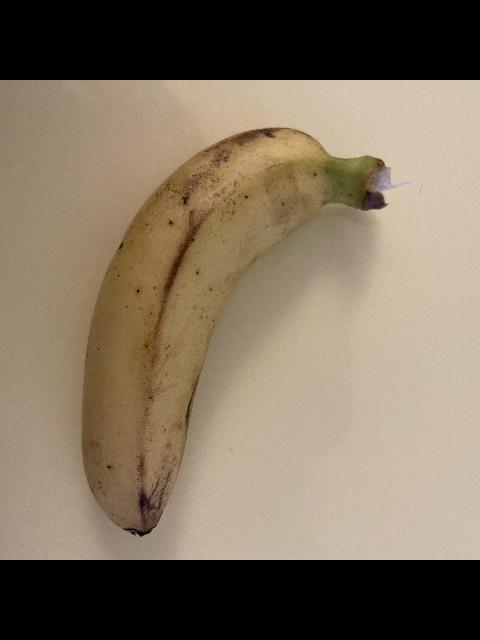banana: (76, 126, 394, 538)
